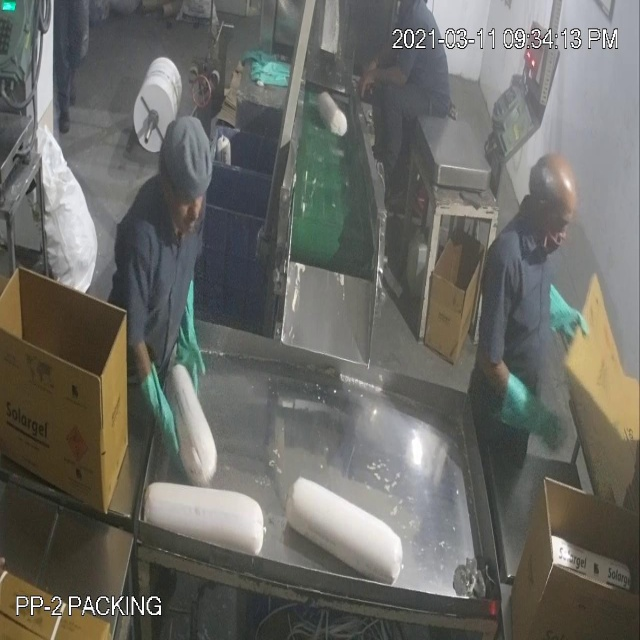Guantes: (497, 362, 575, 460), (133, 342, 189, 472), (542, 276, 588, 342)
Sin_guantes: (358, 54, 413, 106)
